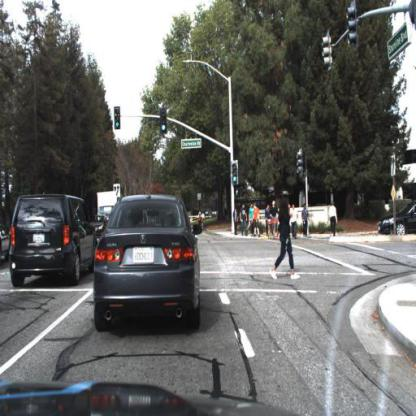biker: (267, 198, 279, 240), (264, 202, 273, 239)
car: (93, 194, 205, 333), (7, 190, 92, 291), (378, 204, 416, 239)
pedestrian: (268, 192, 303, 282), (328, 197, 338, 240), (251, 200, 261, 238), (290, 204, 300, 242), (248, 203, 257, 239), (196, 207, 207, 235), (233, 203, 242, 237), (240, 203, 248, 236), (234, 204, 242, 235)
trafficLight: (157, 104, 168, 136), (230, 158, 241, 190), (111, 104, 121, 131)
